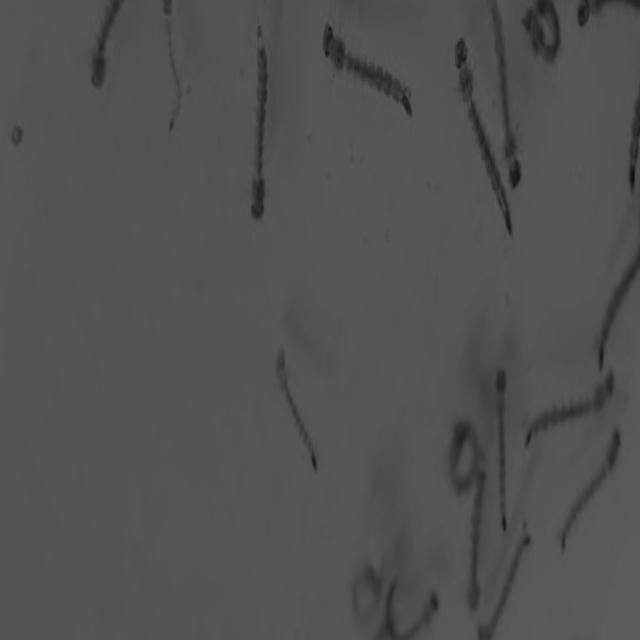larvas: (451, 25, 520, 271), (304, 14, 433, 145), (476, 0, 539, 212), (516, 358, 627, 458), (547, 423, 624, 559), (464, 515, 545, 640), (270, 340, 333, 496), (241, 14, 284, 237), (483, 349, 520, 565), (363, 563, 452, 640), (340, 542, 399, 640), (433, 404, 485, 512), (513, 0, 575, 90), (157, 0, 191, 140), (83, 0, 135, 90), (612, 74, 640, 195), (463, 460, 486, 607), (572, 0, 640, 34)
